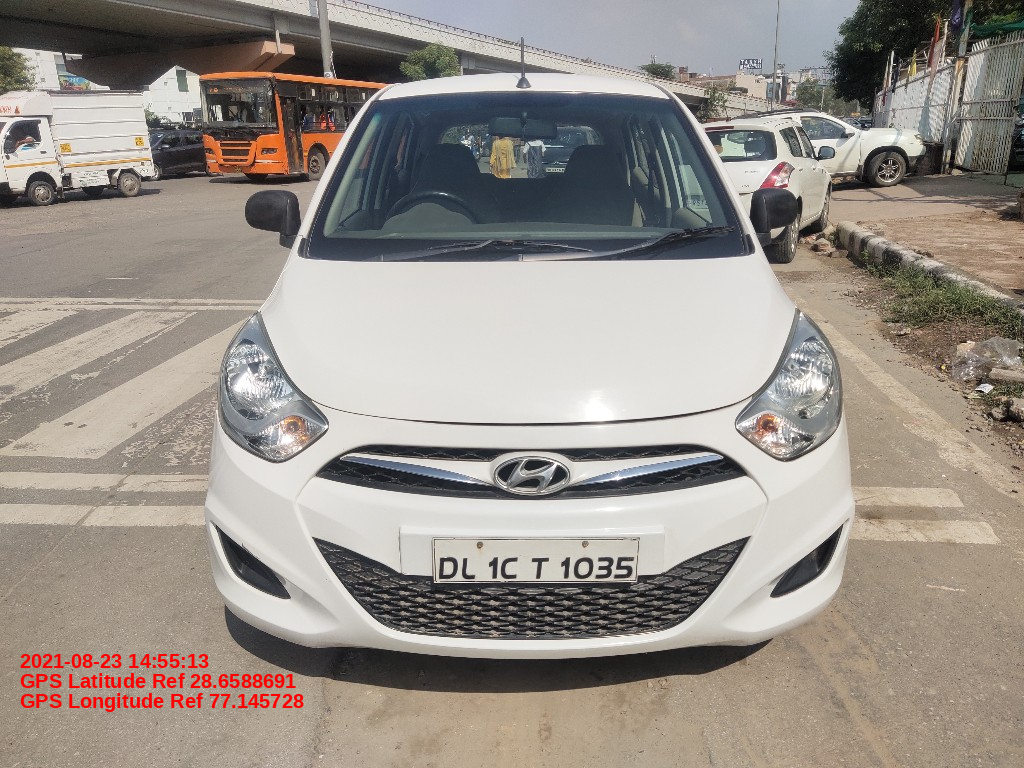Scratched: (238, 541, 264, 561)
